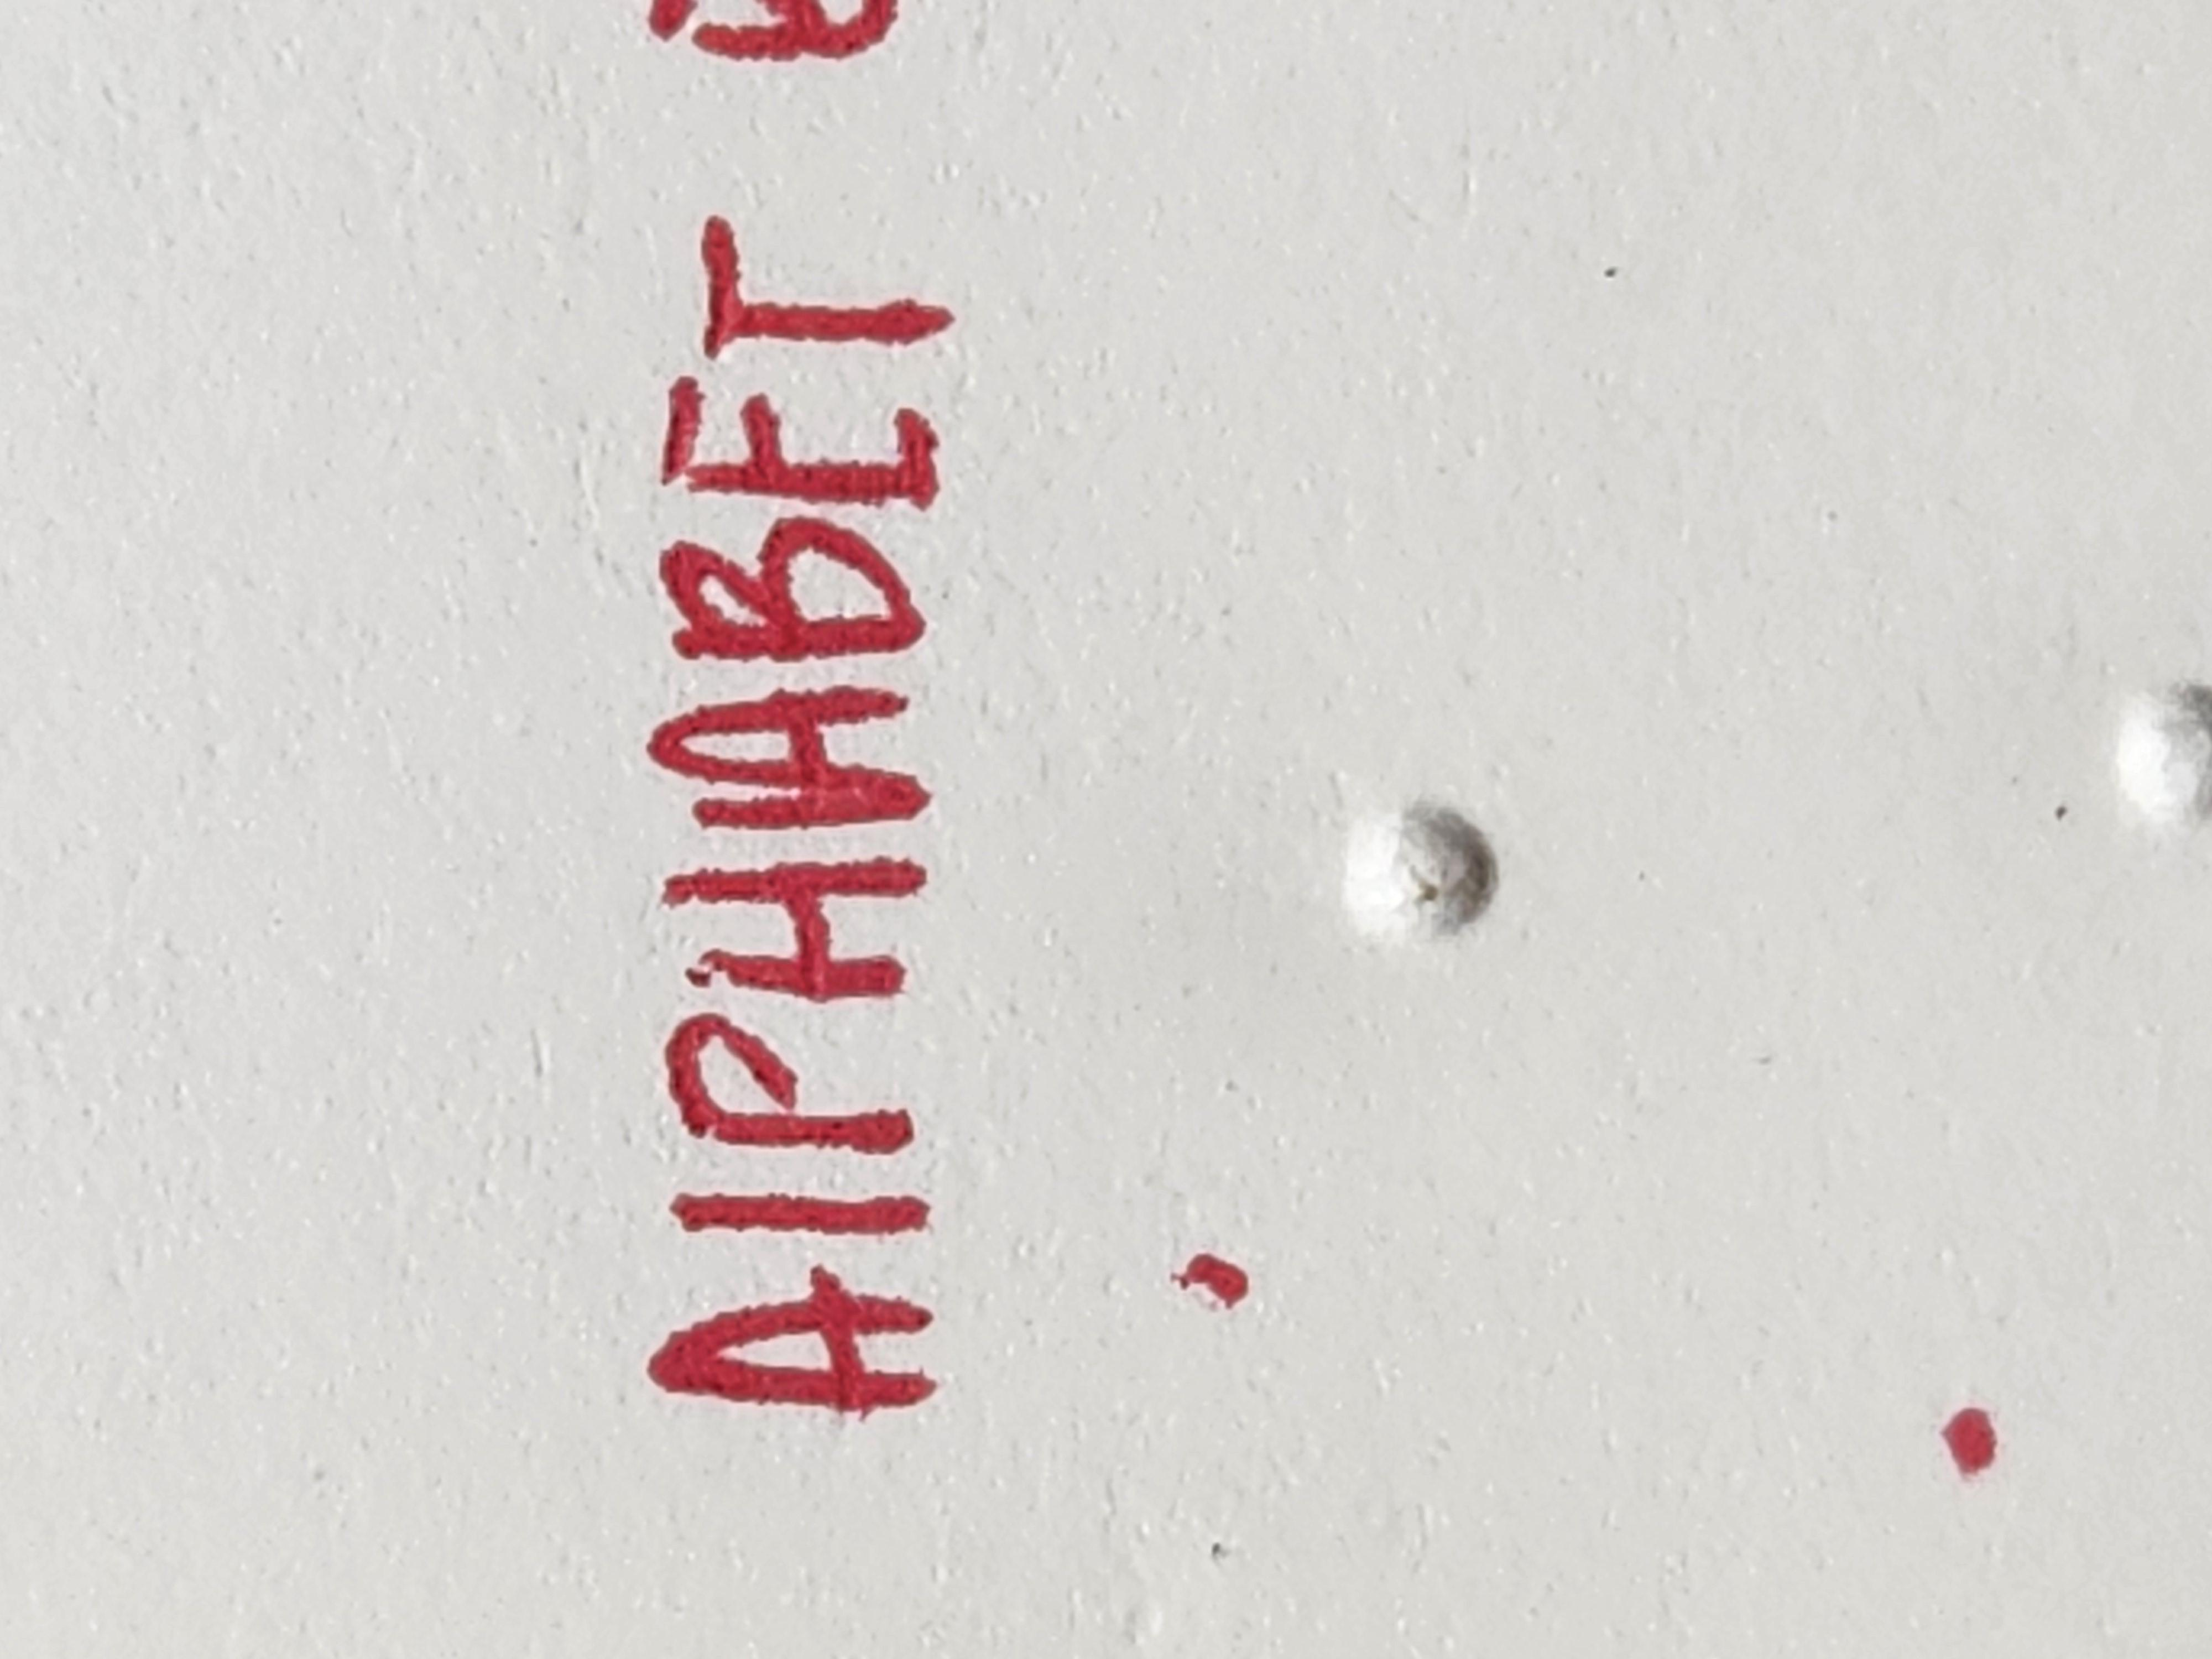letter_a: (967, 1009, 1327, 1359)
